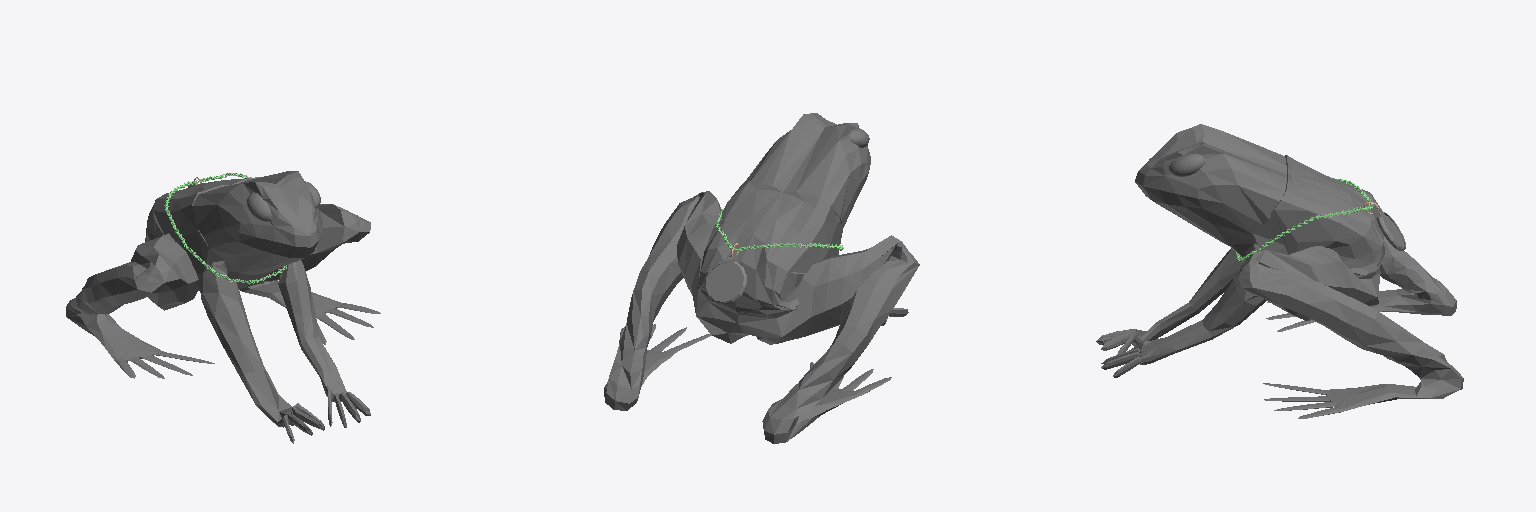
The model's file is laser.obj.
3 renders of one model, left to right at view 1: azimuth 30°, elevation 25°; view 2: azimuth 150°, elevation 25°; view 3: azimuth 270°, elevation 25°, orthographic.
Visible parts, largest first — view 1: k, Object002, Torus118; view 2: k, Object002, Cylinder001; view 3: k, Object002, Cylinder001.
Boxes of the visible parts, x1,y1,x2,y2 form: k: [66, 177, 380, 443]; Object002: [193, 171, 322, 274]; Torus118: [164, 173, 286, 283]; k: [604, 181, 919, 443]; Object002: [745, 113, 870, 227]; Cylinder001: [705, 251, 746, 304]; k: [1096, 155, 1463, 418]; Object002: [1135, 124, 1286, 245]; Cylinder001: [1371, 206, 1405, 250].
Bounding box in the file's own units: 21.59 × 17.2 × 25.44.